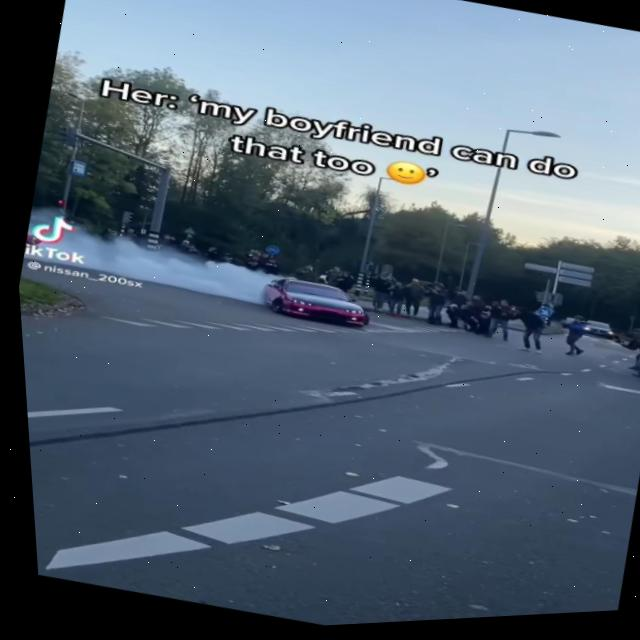vehicle: (256, 271, 370, 345)
